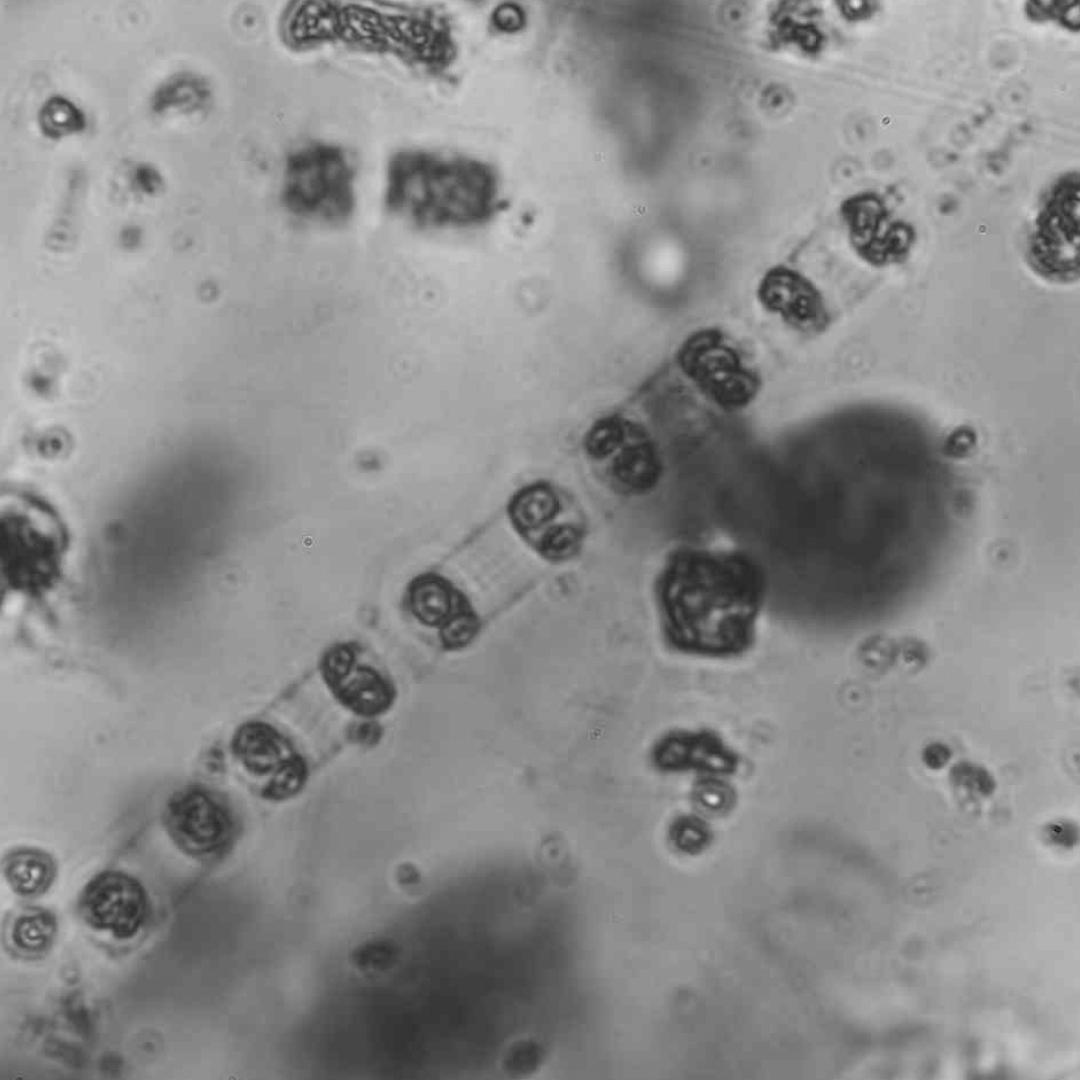skeletonema_costatum: (74, 180, 927, 957)
